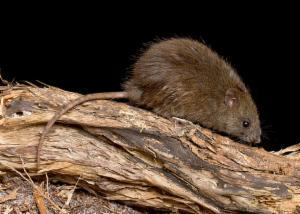rat: (35, 37, 263, 171)
